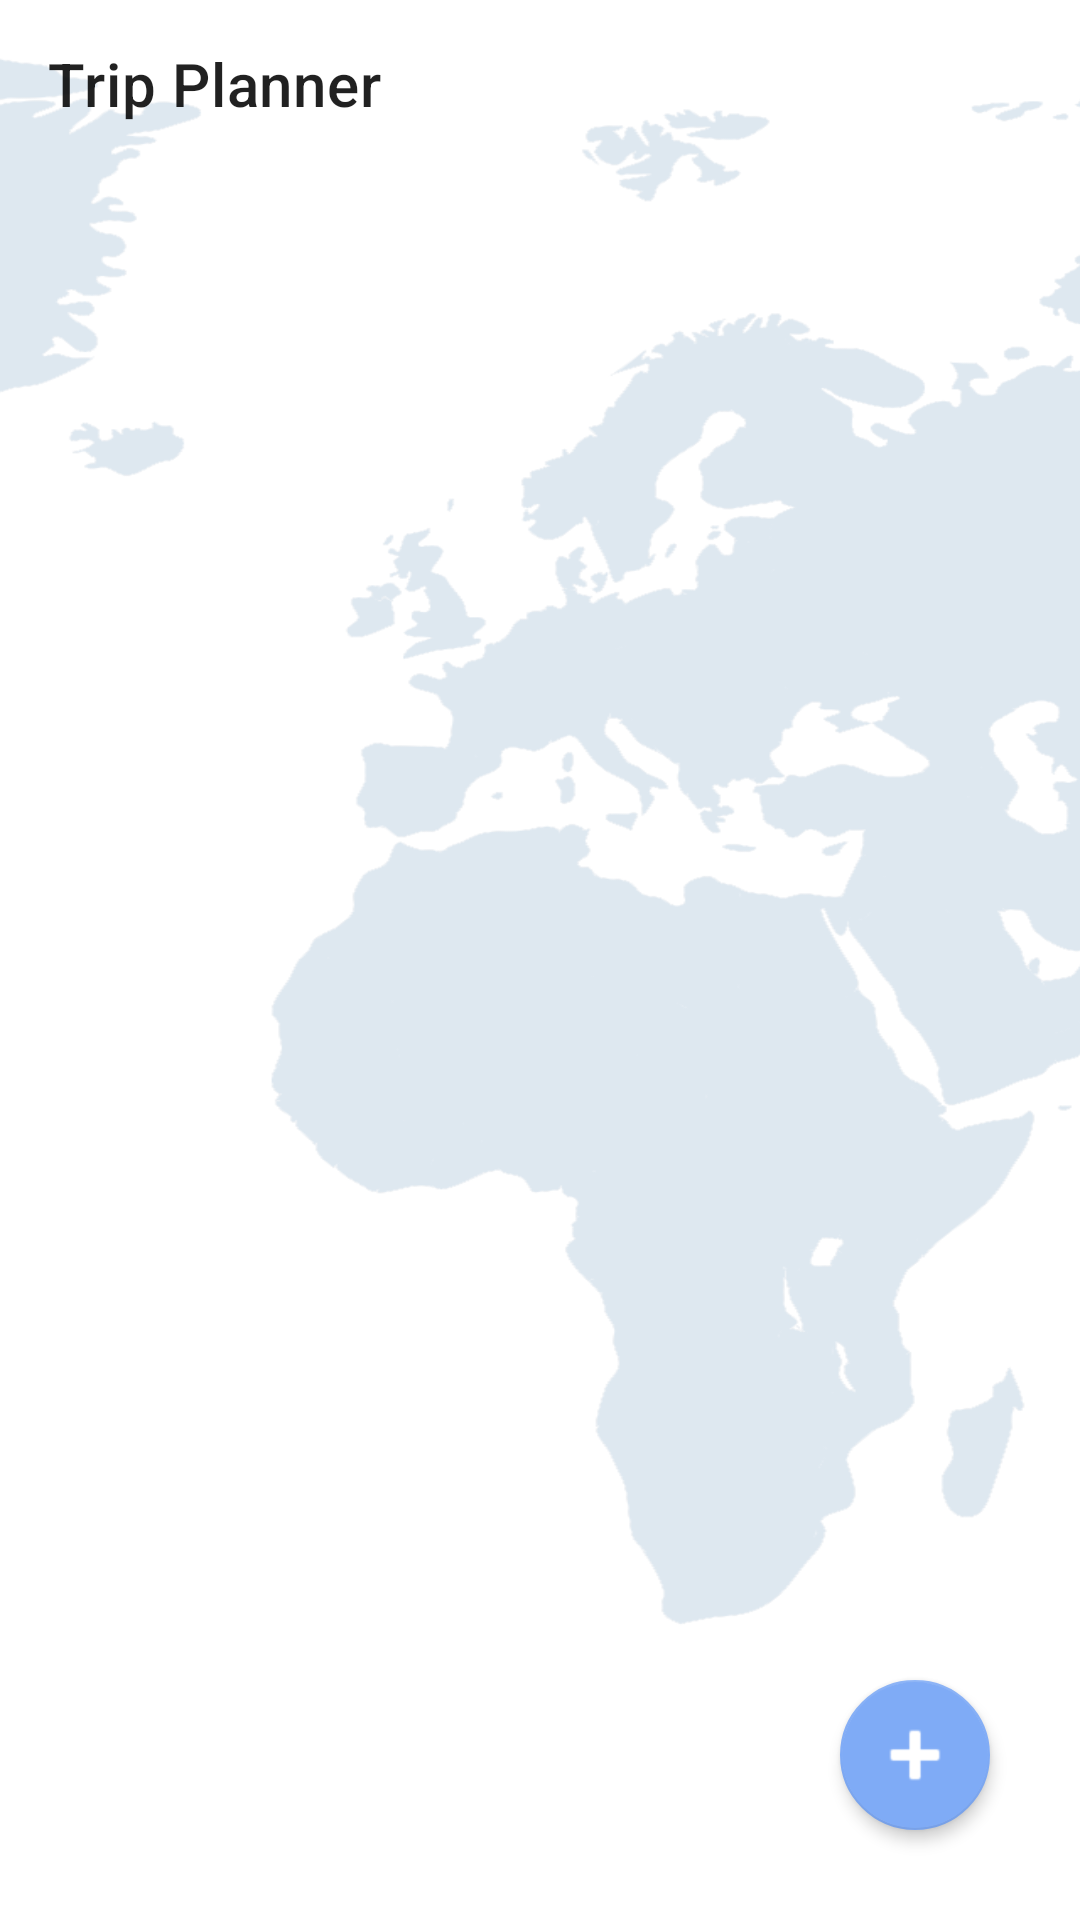

Named icons in this screenshot (1080w x 1920h) and their centers, (x,y):
add: (915,1755)
